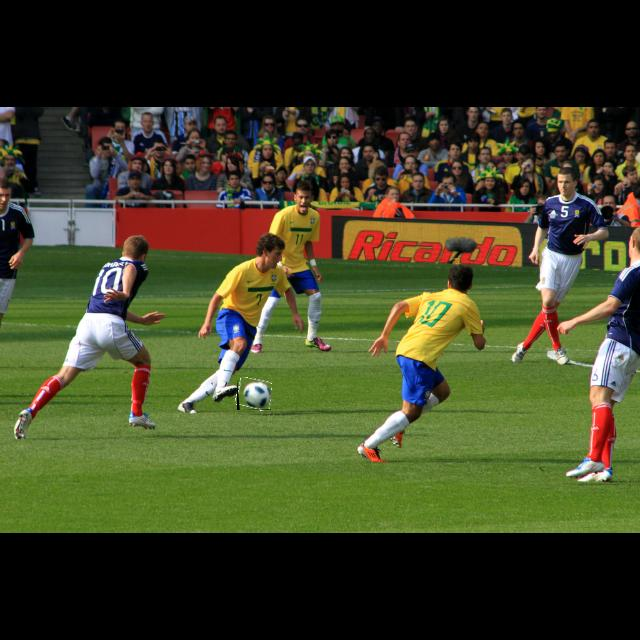Football: (237, 378, 271, 410)
